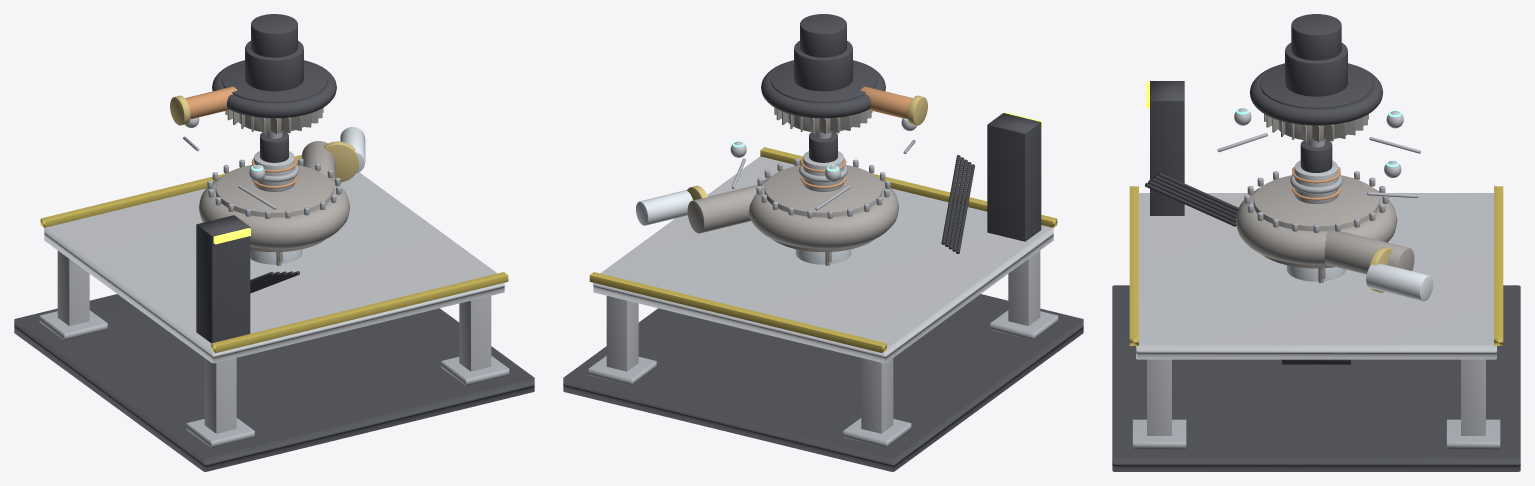
Rendered from pumprig.glb.
The picture shows the model from 3 angles, left to right: view 1: azimuth 30°, elevation 25°; view 2: azimuth 150°, elevation 25°; view 3: azimuth 270°, elevation 25°; orthographic projection. The views are drawn at different scales.
Parts seen in each view (by area): view 1: pad, table, Cube.011, volute_ring, volute, Cube.008, Cube, Cube.004, Torus.002, Cylinder.031, turb_case, Cube.002 (+12 smaller); view 2: pad, table, Cube.011, volute_ring, volute, Cube.009, Cube.002, Cube.006, outlet, Torus.002, Cylinder.031, turb_case (+11 smaller); view 3: table, pad, volute, volute_ring, Cube.011, Torus.002, Cylinder.031, outlet, turb_case, exhaust, Cube.004, Cube.006 (+11 smaller).
Boxes of the visible parts, <box> form: pad: <box>14,294,534,471</box>; table: <box>44,172,504,363</box>; Cube.011: <box>196,215,250,343</box>; volute_ring: <box>198,176,350,248</box>; volute: <box>215,165,333,252</box>; Cube.008: <box>211,272,508,353</box>; Cube: <box>204,358,236,433</box>; Cube.004: <box>459,296,491,371</box>; Torus.002: <box>212,60,336,118</box>; Cylinder.031: <box>245,41,303,91</box>; turb_case: <box>221,61,327,102</box>; Cube.002: <box>57,250,89,325</box>; pad: <box>563,294,1083,471</box>; table: <box>593,156,1053,363</box>; Cube.011: <box>987,113,1041,241</box>; volute_ring: <box>749,176,899,248</box>; volute: <box>764,165,882,252</box>; Cube.009: <box>589,272,886,353</box>; Cube.002: <box>861,358,893,433</box>; Cube.006: <box>606,296,638,371</box>; outlet: <box>687,183,765,233</box>; Torus.002: <box>761,60,885,118</box>; Cylinder.031: <box>794,41,852,91</box>; turb_case: <box>770,61,876,102</box>; table: <box>1136,193,1496,359</box>; pad: <box>1112,285,1520,471</box>; volute: <box>1253,175,1379,268</box>; volute_ring: <box>1235,187,1397,264</box>; Cube.011: <box>1150,81,1184,215</box>; Torus.002: <box>1249,63,1383,125</box>; Cylinder.031: <box>1285,43,1347,96</box>; outlet: <box>1323,230,1414,274</box>; turb_case: <box>1260,64,1372,108</box>; exhaust: <box>1291,14,1341,60</box>; Cube.004: <box>1147,359,1171,435</box>; Cube.006: <box>1461,359,1485,435</box>.
Bounding box in the file's own units: 2.6 × 2.54 × 2.6.
